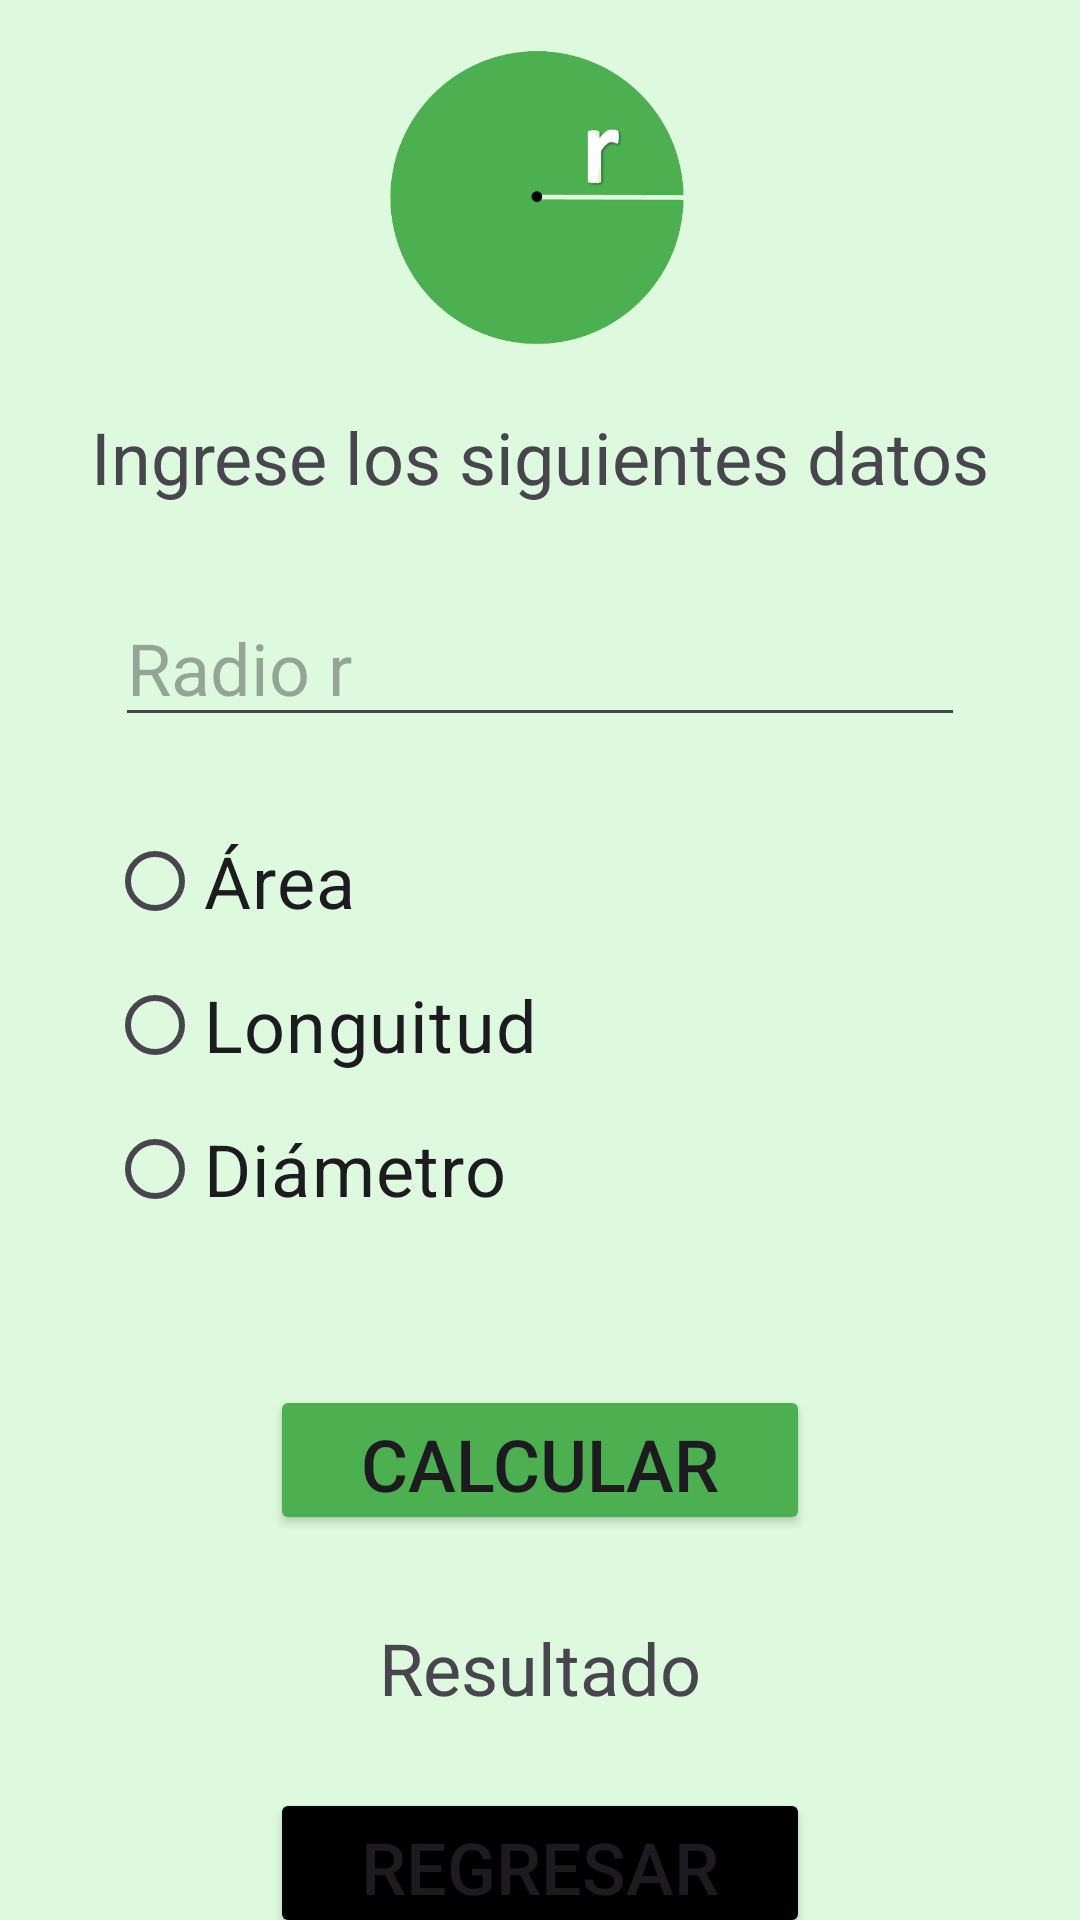

Icons on this 1080px x 1920px Android screen, each with its box as (x1, y1, x2, y2):
circulo: (390, 51, 684, 344)
